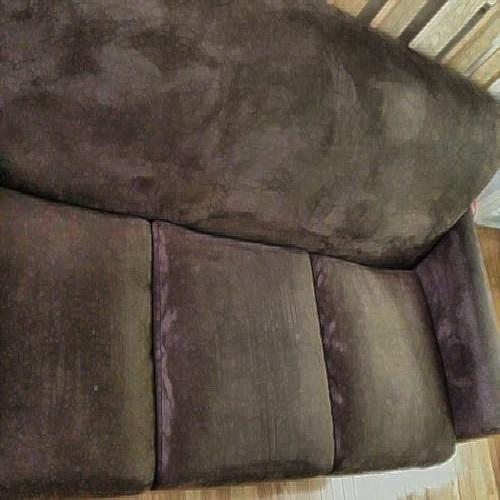sofa: (21, 13, 481, 476)
